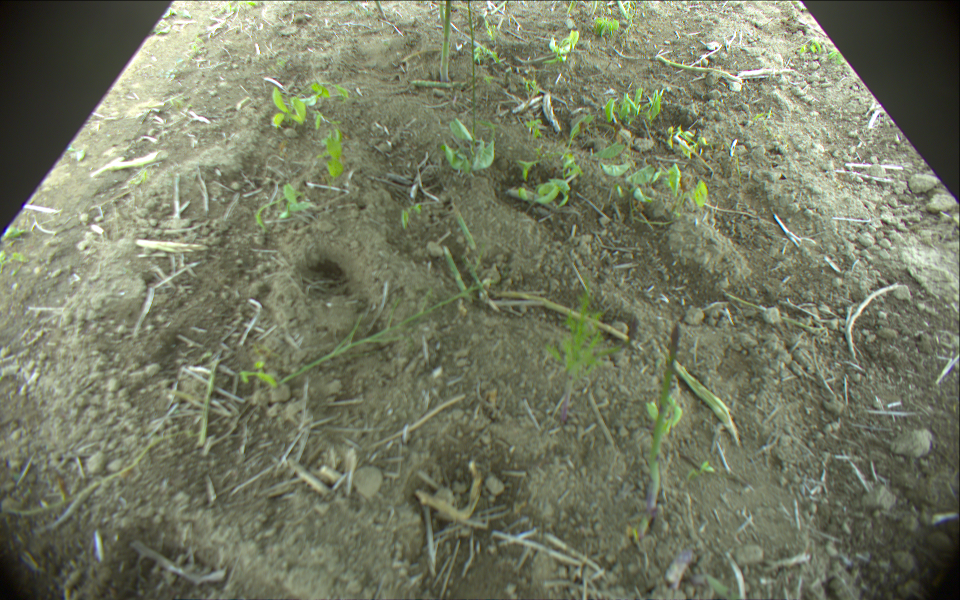aspa: (643, 324, 681, 514), (670, 353, 738, 435), (463, 1, 484, 158), (657, 54, 741, 84), (195, 358, 221, 448), (445, 193, 476, 247), (660, 550, 696, 593), (443, 251, 470, 305), (439, 1, 451, 81), (412, 76, 474, 87), (374, 1, 388, 18)
